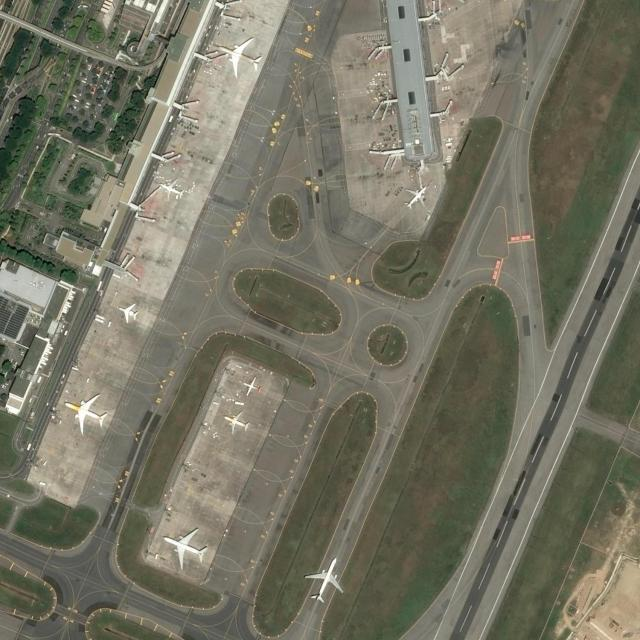Aircraft: (305, 553, 347, 601), (215, 38, 263, 78), (162, 528, 207, 570), (64, 392, 108, 434), (222, 411, 250, 434), (403, 184, 427, 210), (159, 179, 185, 201), (117, 304, 140, 323), (242, 377, 261, 395)
